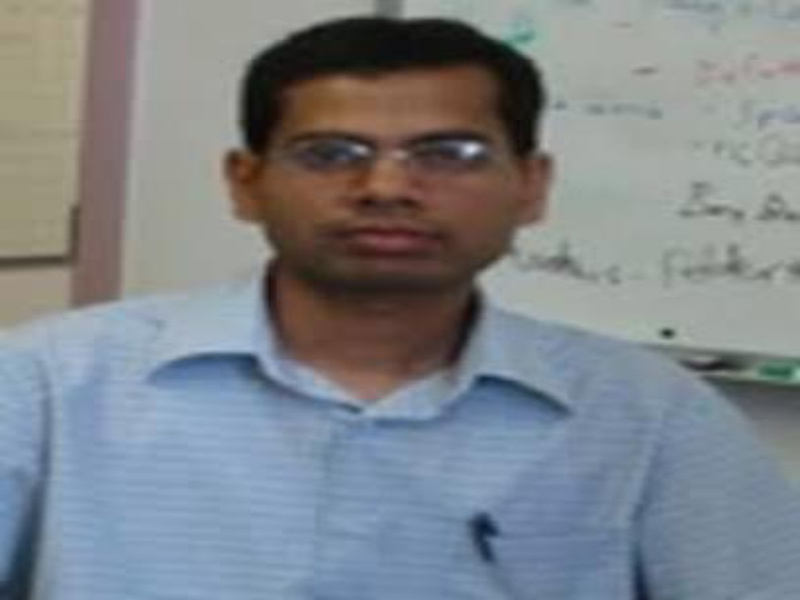TsisyArotava: (222, 11, 564, 324)
